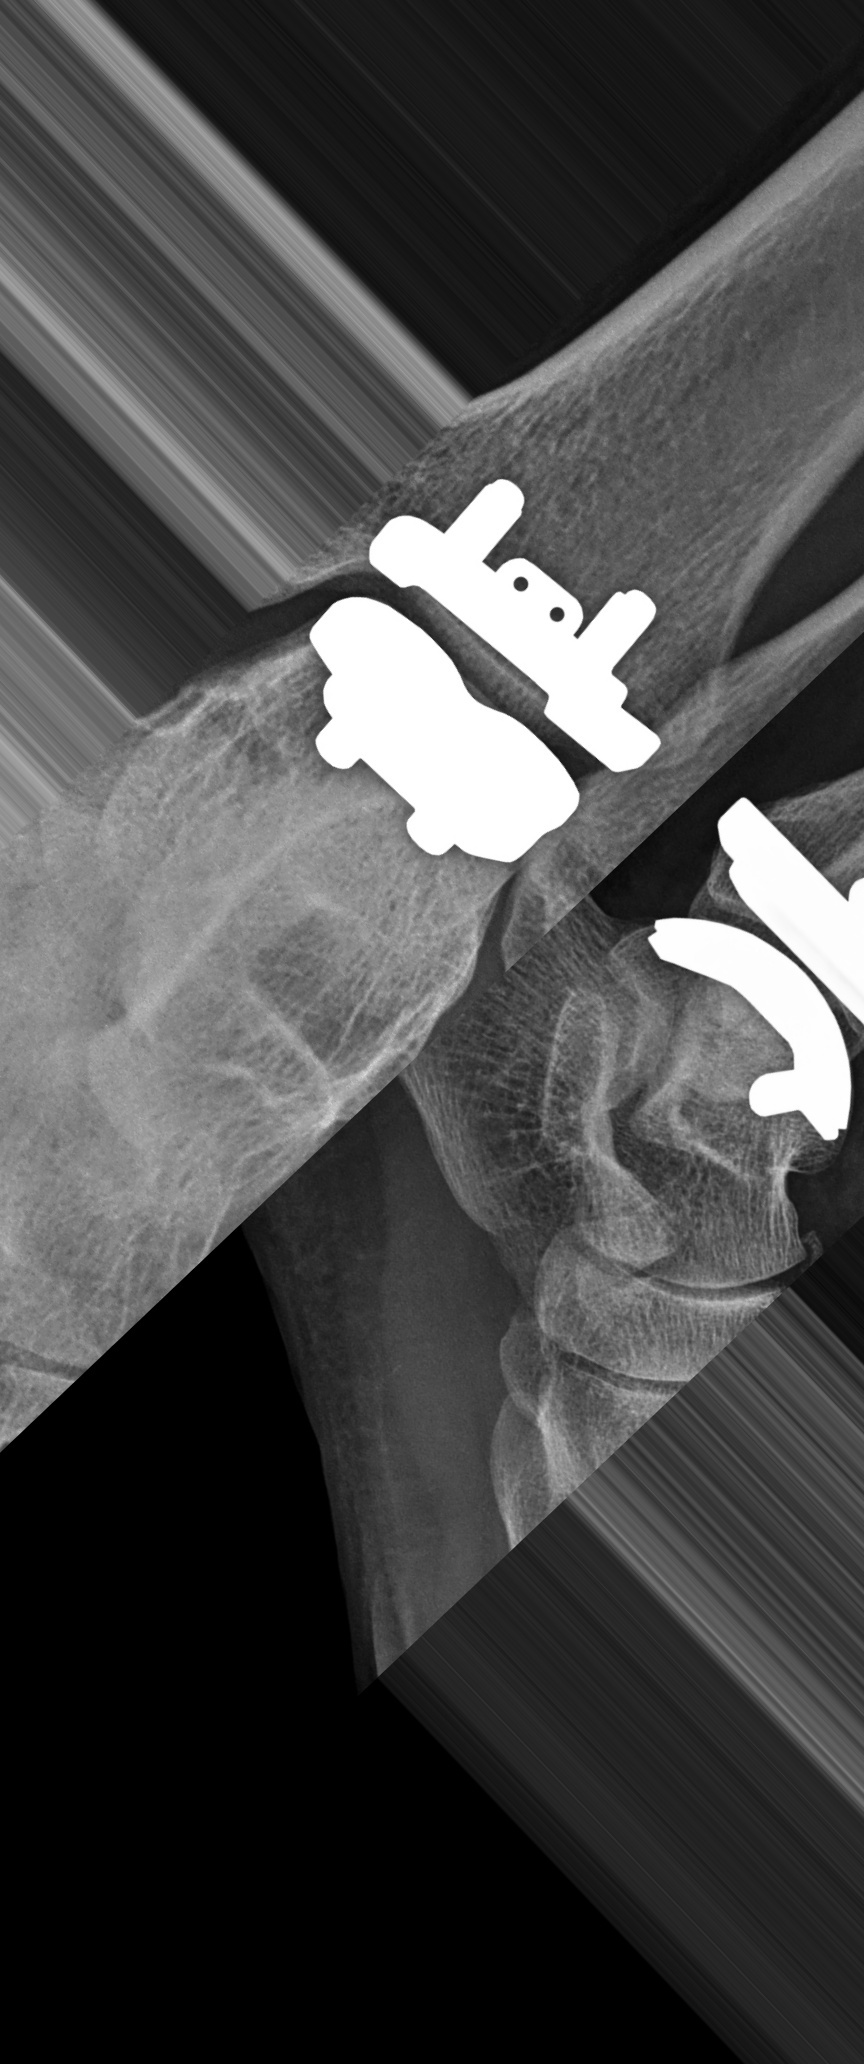Cadence-Integra: (278, 482, 678, 874), (639, 787, 864, 1164)
